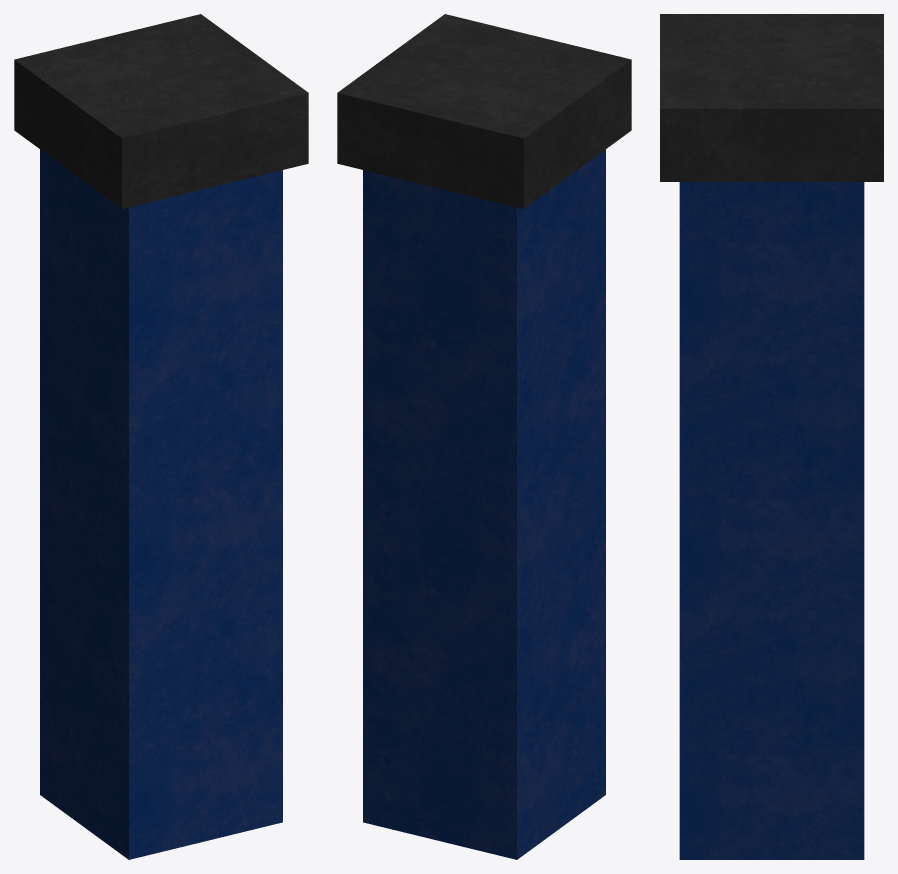
The model's file is stand03.fbx.
The picture shows the model from 3 angles, left to right: view 1: azimuth 30°, elevation 25°; view 2: azimuth 150°, elevation 25°; view 3: azimuth 270°, elevation 25°; orthographic projection. The views are drawn at different scales.
Parts seen in each view (by area): view 1: stand03; view 2: stand03; view 3: stand03.
Part boxes in pixels (x1=…): stand03: x1=14, y1=14, x2=308, y2=859; stand03: x1=337, y1=14, x2=631, y2=859; stand03: x1=660, y1=14, x2=883, y2=859.
Bounding box in the file's own units: 24.23 × 90.78 × 24.23.
